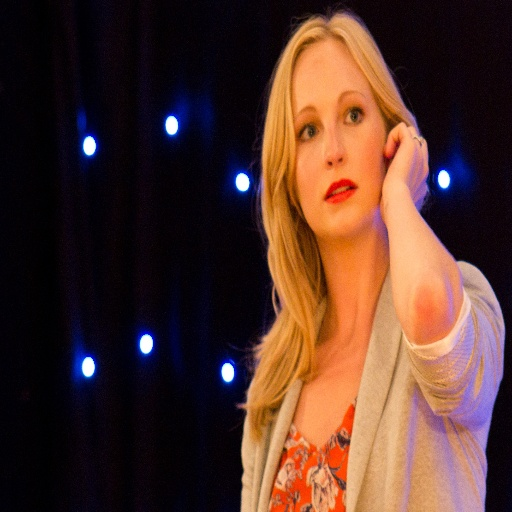hand: (390, 108, 430, 202)
